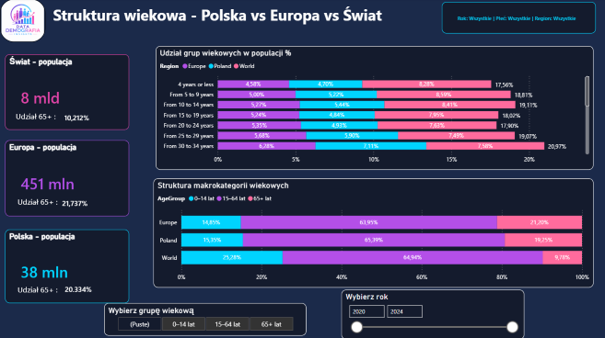

This screenshot's page, from the dashboard's own definition file:
{"tool":"powerbi","page":{"name":"Piramida wieku — Polska vs Europa vs Świat","canvas":[1280,720],"ordinal":1},"visuals":[{"type":"barChart","title":"Udział grup wiekowych w populacji %","fields":{"Category":["All_Regions.Age"],"Series":["All_Regions.Region"],"Y":["_Miary.Age Group Share % 2"]},"box":[328.5,99.5,924,262.4],"z":0},{"type":"cardVisual","title":"Świat - populacja","fields":{"Data":["_Miary.Total People"]},"box":[10.7,116.7,262.4,159.7],"z":0,"group":"g1"},{"type":"cardVisual","title":"Europa - populacja","fields":{"Data":["_Miary.Total People"]},"box":[10.7,298.6,262.4,161],"z":0,"group":"g2"},{"type":"cardVisual","title":"Polska - populacja","fields":{"Data":["_Miary.Total People"]},"box":[10.7,487.3,262.4,156.4],"z":0,"group":"g3"},{"type":"textbox","box":[28.4,231.2,103.4,38],"z":1000,"group":"g1"},{"type":"hundredPercentStackedBarChart","title":"Struktura makrokategorii wiekowych","fields":{"Category":["All_Regions.Region"],"Y":["_Miary.Age Group Share % 2"],"Series":["All_Regions.AgeGroup"]},"box":[323.9,379.6,928.6,231],"z":1000},{"type":"cardVisual","title":"udział 65+ :","fields":{"Data":["_Miary.Share 65+ %"]},"box":[102.3,404,152.5,54.3],"z":1000,"group":"g2"},{"type":"textbox","box":[32.3,598.5,96.9,38.6],"z":1000,"group":"g3"},{"type":"cardVisual","title":"udział 65+ :","fields":{"Data":["_Miary.Share 65+ %"]},"box":[106.9,224,121.7,52.4],"z":2000,"group":"g1"},{"type":"textbox","box":[32.3,412.5,94.9,38],"z":2000,"group":"g2"},{"type":"cardVisual","title":"udział 65+ :","fields":{"Data":["_Miary.Share 65+ %"]},"box":[107.6,587.4,120.4,49.7],"z":2000,"group":"g3"},{"type":"slicer","title":"Wybierz rok","fields":{"Values":["Kalendarz.Rok"]},"box":[721.1,615.1,385.8,104.6],"z":2000},{"type":"textbox","box":[107,5.8,967.8,74.9],"z":3000},{"type":"slicer","title":"Wybierz grupę wiekową","fields":{"Values":["All_Regions.AgeGroup"]},"box":[219.9,642.6,426.7,69.4],"z":4000},{"type":"cardVisual","fields":{"Data":["_Miary.Opis filtrów"]},"box":[932.5,5.9,324.6,66.7],"z":5000},{"type":"group","id":"g1","title":"Karta Świat","box":[10.7,116.7,262.6,160.5],"z":6000},{"type":"group","id":"g2","title":"Karta Europa","box":[10.7,298.6,262.6,160.5],"z":7000},{"type":"group","id":"g3","title":"Karta Polska","box":[10.7,487.3,262.6,155.6],"z":8000},{"type":"image","box":[0,0,96.3,91.4],"z":9000}]}

Visuals, with their boxes in screenshot pixels (x1, y1, x2, y2), scaled from the page's 1280x720 canvas onto the 605x338 screenshot:
"Udział grup wiekowych w populacji %" barChart: <bbox>155, 47, 592, 170</bbox>
"Świat - populacja" cardVisual: <bbox>5, 55, 129, 130</bbox>
"Europa - populacja" cardVisual: <bbox>5, 140, 129, 216</bbox>
"Polska - populacja" cardVisual: <bbox>5, 229, 129, 302</bbox>
textbox: <bbox>13, 109, 62, 126</bbox>
"Struktura makrokategorii wiekowych" hundredPercentStackedBarChart: <bbox>153, 178, 592, 287</bbox>
"udział 65+ :" cardVisual: <bbox>48, 190, 120, 215</bbox>
textbox: <bbox>15, 281, 61, 299</bbox>
"udział 65+ :" cardVisual: <bbox>51, 105, 108, 130</bbox>
textbox: <bbox>15, 194, 60, 211</bbox>
"udział 65+ :" cardVisual: <bbox>51, 276, 108, 299</bbox>
"Wybierz rok" slicer: <bbox>341, 289, 523, 337</bbox>
textbox: <bbox>51, 3, 508, 38</bbox>
"Wybierz grupę wiekową" slicer: <bbox>104, 302, 306, 334</bbox>
cardVisual - _Miary.Opis filtrów: <bbox>441, 3, 594, 34</bbox>
"Karta Świat" group: <bbox>5, 55, 129, 130</bbox>
"Karta Europa" group: <bbox>5, 140, 129, 216</bbox>
"Karta Polska" group: <bbox>5, 229, 129, 302</bbox>
image: <bbox>0, 0, 46, 43</bbox>
